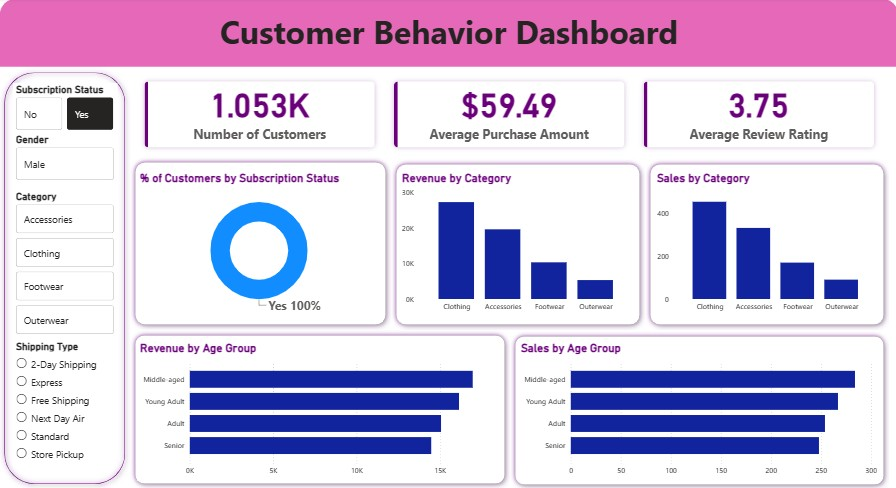

The page's visual inventory and layout, read from the dashboard file:
{"tool":"powerbi","page":{"name":"Page 1","canvas":[1500,820],"ordinal":0},"visuals":[{"type":"cardVisual","fields":{"Data":["public customer.Number of Customers","public customer.Average Purchase Amount","public customer.Average Review Rating"]},"box":[218.3,115,1265,153.3],"z":0},{"type":"shape","box":[0,0,1500,115.4],"z":1000},{"type":"textbox","box":[0,13.4,1500,102],"z":2000},{"type":"shape","box":[218.3,265,435,288.3],"z":3000},{"type":"donutChart","title":"% of Customers by Subscription Status","fields":{"Category":["public customer.subscription_status"],"Y":["CountNonNull(public customer.customer_id)"]},"box":[230,288.3,406.7,243.3],"z":4000},{"type":"shape","box":[653.3,268.3,423.3,285],"z":5000},{"type":"shape","box":[1076.7,268.3,406.7,285],"z":6000},{"type":"clusteredColumnChart","title":"Revenue by Category","fields":{"Y":["Sum(public customer.purchase_amount)"],"Category":["public customer.category"]},"box":[666.7,288.3,395,243.3],"z":7000},{"type":"clusteredColumnChart","title":"Sales by Category","fields":{"Category":["public customer.category"],"Y":["CountNonNull(public customer.customer_id)"]},"box":[1091.7,288.3,376.7,243.3],"z":8000},{"type":"shape","box":[0,115.4,219.1,704],"z":9000},{"type":"advancedSlicerVisual","title":"Subscription Status","fields":{"Values":["public customer.subscription_status"]},"box":[23.4,142.1,173.9,83.6],"z":10000},{"type":"advancedSlicerVisual","title":"Gender","fields":{"Values":["public customer.gender"]},"box":[23.4,225.8,173.9,83.6],"z":11000},{"type":"advancedSlicerVisual","title":"Category","fields":{"Values":["public customer.category"]},"box":[23.4,319.4,173.9,245.8],"z":12000},{"type":"listSlicer","title":"Shipping Type","fields":{"Values":["public customer.shipping_type"]},"box":[23.4,570.2,173.9,212.4],"z":13000},{"type":"shape","box":[218.3,553.3,633.3,265],"z":14000},{"type":"clusteredBarChart","title":"Revenue by Age Group","fields":{"Y":["Sum(public customer.purchase_amount)"],"Category":["public customer.age_group"]},"box":[230,571.7,603.3,233.3],"z":15000},{"type":"shape","box":[851.7,555,631.7,265],"z":16000},{"type":"clusteredBarChart","title":"Sales by Age Group","fields":{"Y":["CountNonNull(public customer.customer_id)"],"Category":["public customer.age_group"]},"box":[865,571.7,603.3,233.3],"z":17000}]}

Visuals, with their boxes in screenshot pixels (x1, y1, x2, y2), scaled from the page's 1500x820 canvas onto the 896x488 screenshot:
cardVisual - public customer.Number of Customers x public customer.Average Purchase Amount: {"left": 130, "top": 68, "right": 886, "bottom": 160}
shape: {"left": 0, "top": 0, "right": 895, "bottom": 69}
textbox: {"left": 0, "top": 8, "right": 895, "bottom": 69}
shape: {"left": 130, "top": 158, "right": 390, "bottom": 329}
"% of Customers by Subscription Status" donutChart: {"left": 137, "top": 172, "right": 380, "bottom": 316}
shape: {"left": 390, "top": 160, "right": 643, "bottom": 329}
shape: {"left": 643, "top": 160, "right": 886, "bottom": 329}
"Revenue by Category" clusteredColumnChart: {"left": 398, "top": 172, "right": 634, "bottom": 316}
"Sales by Category" clusteredColumnChart: {"left": 652, "top": 172, "right": 877, "bottom": 316}
shape: {"left": 0, "top": 69, "right": 131, "bottom": 487}
"Subscription Status" advancedSlicerVisual: {"left": 14, "top": 85, "right": 118, "bottom": 134}
"Gender" advancedSlicerVisual: {"left": 14, "top": 134, "right": 118, "bottom": 184}
"Category" advancedSlicerVisual: {"left": 14, "top": 190, "right": 118, "bottom": 336}
"Shipping Type" listSlicer: {"left": 14, "top": 339, "right": 118, "bottom": 466}
shape: {"left": 130, "top": 329, "right": 509, "bottom": 487}
"Revenue by Age Group" clusteredBarChart: {"left": 137, "top": 340, "right": 498, "bottom": 479}
shape: {"left": 509, "top": 330, "right": 886, "bottom": 487}
"Sales by Age Group" clusteredBarChart: {"left": 517, "top": 340, "right": 877, "bottom": 479}
